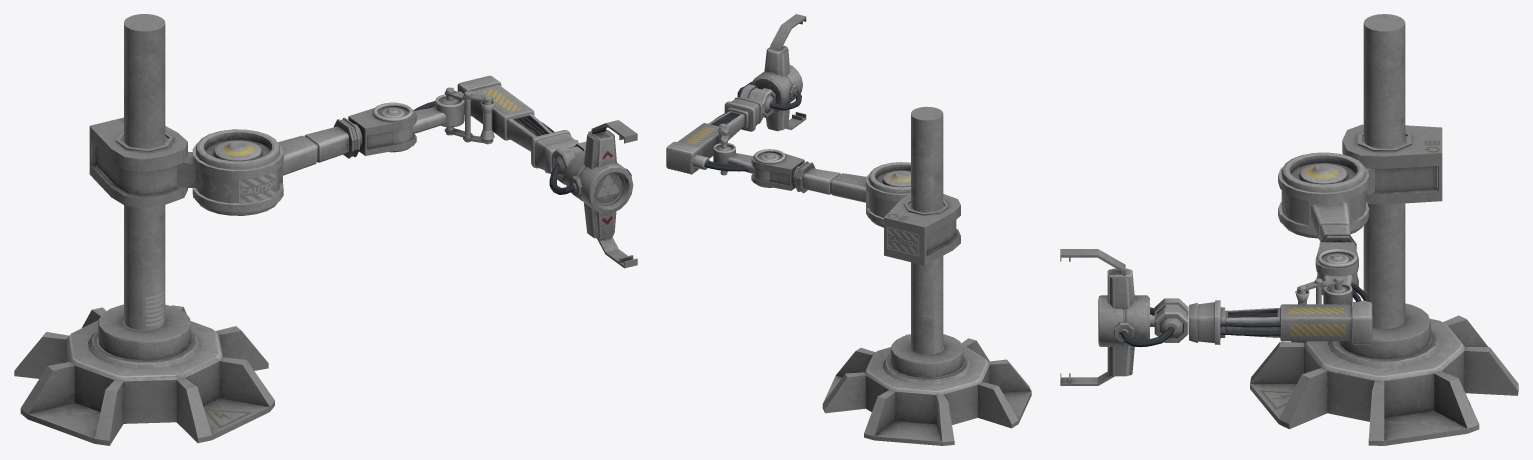
Rendered from Mechanical Arm 1.FBX.
3 views of the same model, side by side, from view 1: azimuth 30°, elevation 25°; view 2: azimuth 150°, elevation 25°; view 3: azimuth 270°, elevation 25° (orthographic). The views are drawn at different scales.
Parts seen in each view (by area): view 1: Base, Box355, Cylinder094, Point003, Point001, Point006, Box356, Point008, Box361, Cylinder097, Cylinder098, Box357; view 2: Base, Box355, Point003, Point001, Point006, Cylinder094, Box356, Point008, Box361, Cylinder097, Cylinder098; view 3: Base, Point003, Box355, Cylinder094, Point006, Point001, Point008, Box361, Box356, Cylinder097, Cylinder098.
Part boxes in pixels (x1,y1,x2,y2): Base: (14, 14, 274, 445); Box355: (89, 117, 187, 207); Cylinder094: (177, 129, 279, 215); Point003: (413, 75, 578, 173); Point001: (192, 126, 348, 212); Point006: (549, 141, 633, 213); Box356: (348, 107, 416, 155); Point008: (583, 129, 616, 239); Box361: (591, 120, 637, 268); Cylinder097: (373, 102, 412, 152); Cylinder098: (435, 94, 464, 127); Box357: (412, 107, 445, 133); Base: (822, 106, 1031, 445); Box355: (884, 194, 960, 265); Point003: (666, 97, 762, 175); Point001: (803, 168, 910, 225); Point006: (737, 65, 802, 117); Cylinder094: (868, 162, 910, 227); Box356: (751, 152, 804, 190); Point008: (764, 45, 790, 131); Box361: (770, 14, 806, 129); Cylinder097: (754, 149, 785, 187); Cylinder098: (713, 143, 735, 163); Base: (1250, 14, 1518, 445); Point003: (1189, 276, 1372, 344); Box355: (1342, 124, 1442, 204); Cylinder094: (1281, 152, 1374, 238); Point006: (1098, 295, 1188, 347); Point001: (1278, 166, 1369, 241); Point008: (1107, 268, 1134, 376); Box361: (1060, 249, 1125, 385); Box356: (1315, 242, 1358, 294); Cylinder097: (1317, 249, 1357, 295); Cylinder098: (1323, 283, 1352, 304).
Bounding box in the file's own units: 2.76 × 2.3 × 2.03.
